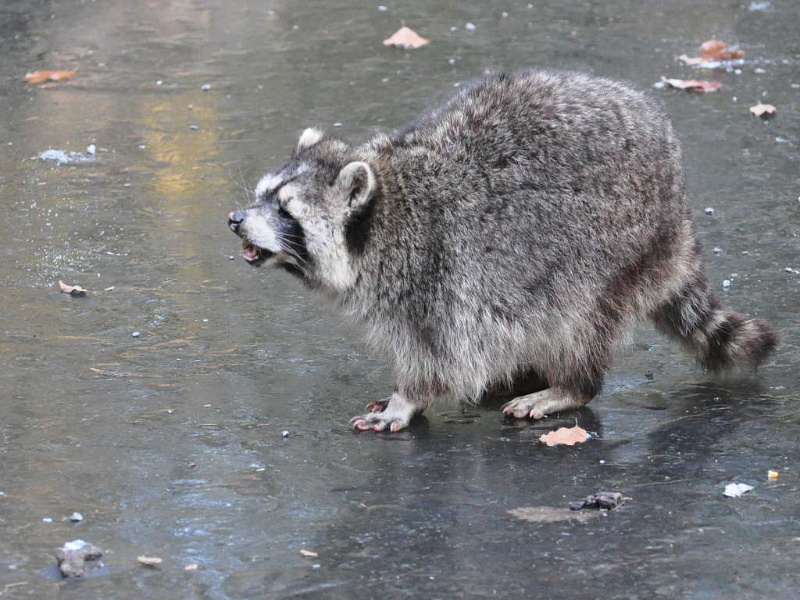raccoon: (226, 65, 783, 434)
